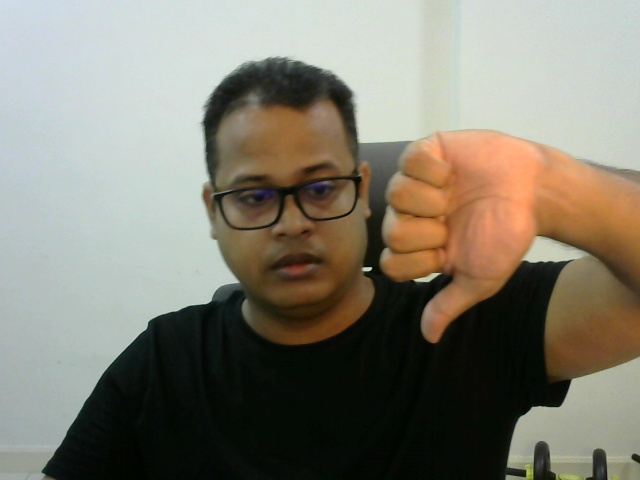ThumbsDown: (379, 127, 547, 346)
